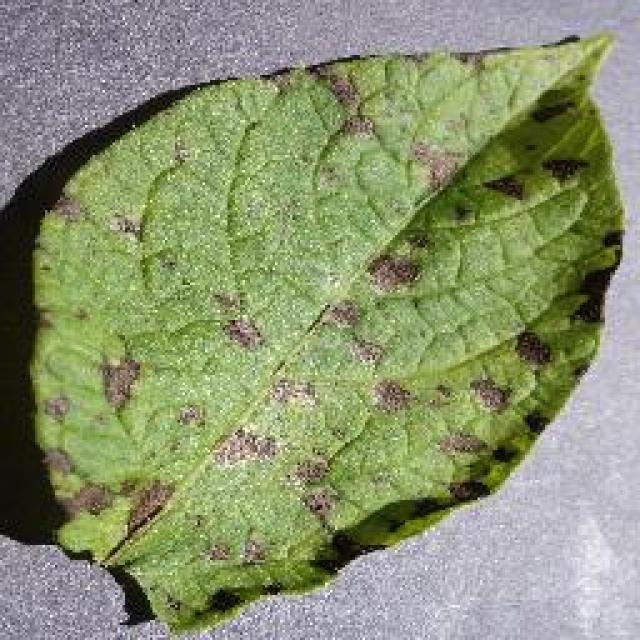early_blight: (22, 28, 630, 638)
